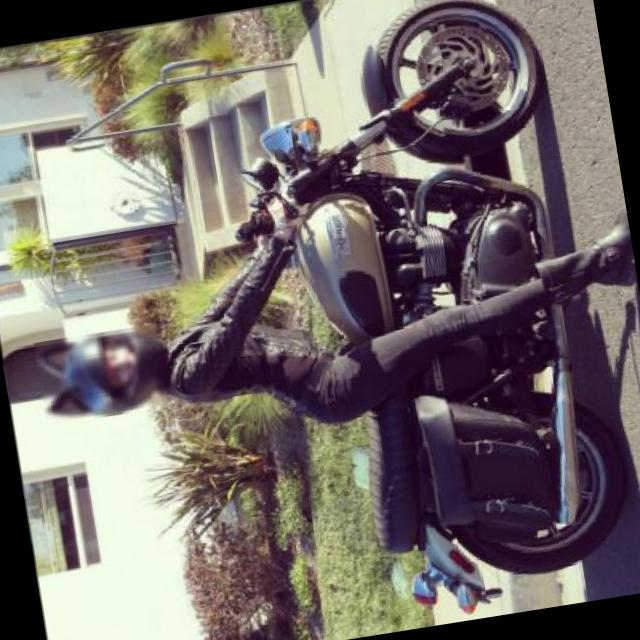With Helmet: (34, 322, 170, 424)
